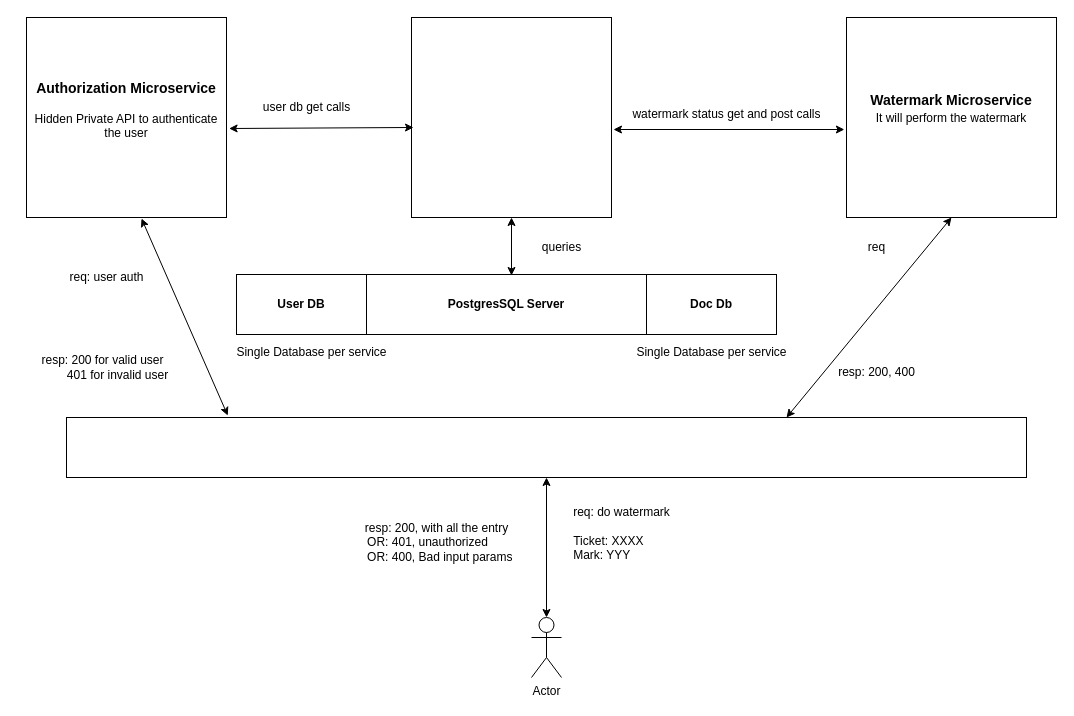
Some shapes in this 1074 by 716 pixel diagram are drawn without their labels. The shapes that lost their labels are listed below. From the top down, each one's centre as x and y in pixels, then its label:
At (x=511, y=117): "Database Microservice ORM provides simple set of CRUD functions".
At (x=546, y=447): "API Gateway".
